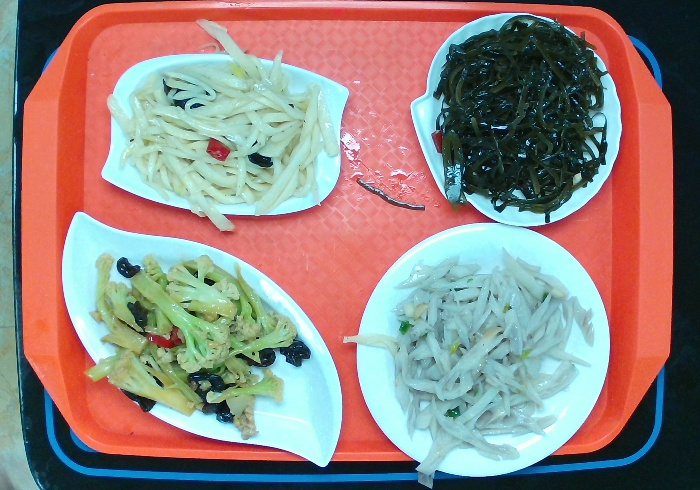RJxy-Bei_Ke_Wan: (411, 10, 624, 235)
RJxy-Jian_Jiao_Fang_Die: (101, 49, 351, 221)
RJxy-Jian_Jiao_Pan: (63, 211, 341, 473)
RJxy-Yuan_Pan: (353, 217, 616, 477)
